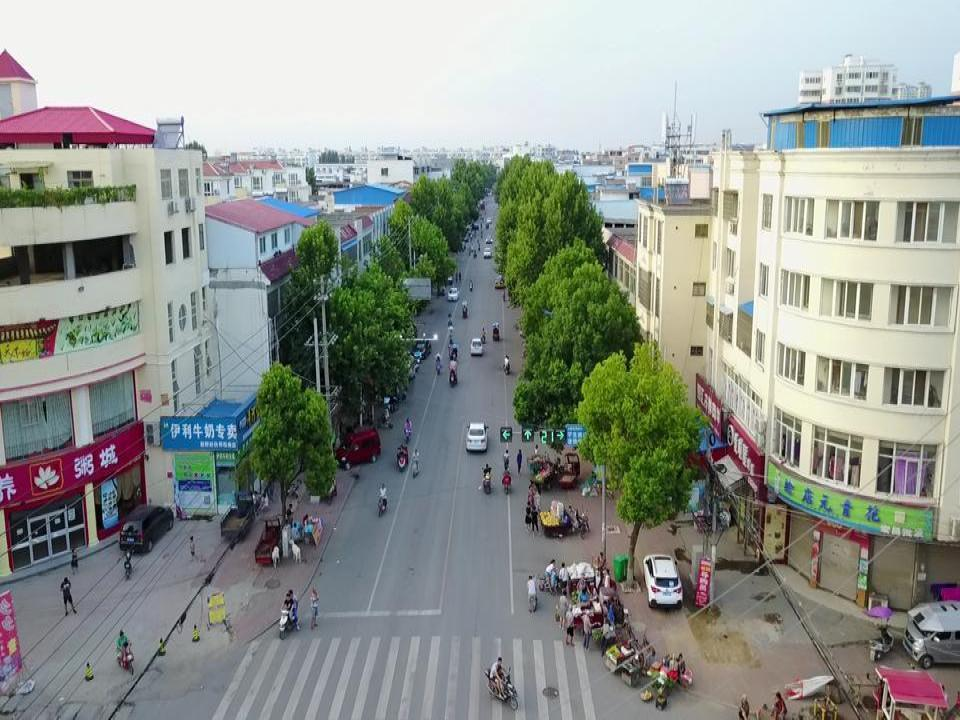car: (902, 597, 960, 668), (118, 500, 173, 553), (641, 550, 683, 610), (466, 420, 489, 453), (468, 337, 483, 356)
truck: (568, 585, 631, 627), (219, 488, 255, 543)
van: (334, 427, 381, 469)
